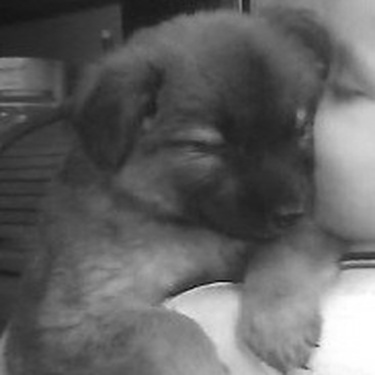dog: (1, 1, 351, 372)
